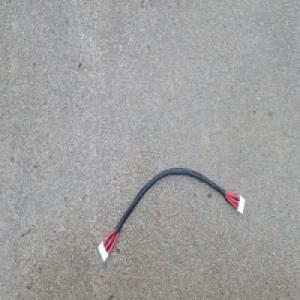Wire: (95, 166, 246, 264)
